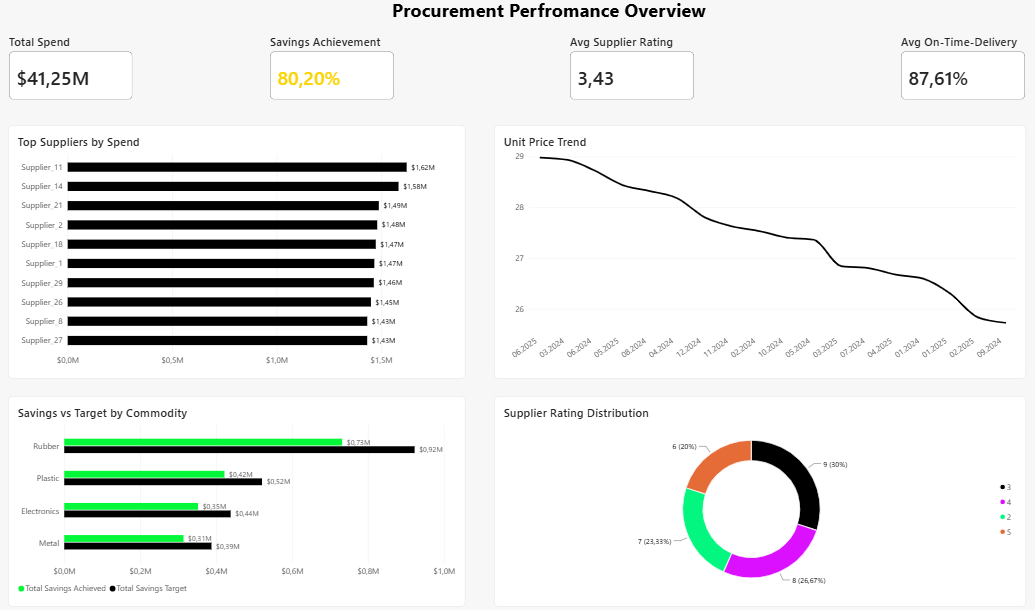

This screenshot's page, from the dashboard's own definition file:
{"tool":"powerbi","page":{"name":"1. Procurement Performance Overview","canvas":[1920,1080],"ordinal":0},"visuals":[{"type":"textbox","box":[10.5,0,1909.5,62.9],"z":0},{"type":"cardVisual","title":"Total Spend","fields":{"Data":["Fact_ProcurementPerfromance.Total Spend"]},"box":[23.9,62.9,215.5,116.7],"z":1000},{"type":"cardVisual","title":"Savings Achievement","fields":{"Data":["Fact_ProcurementPerfromance.Savings Achievement %"]},"box":[478.9,62.9,217,116.7],"z":2000},{"type":"cardVisual","title":"Avg Supplier Rating","fields":{"Data":["Dim_Supplier.Avg Supplier Rating"]},"box":[1002.7,62.9,217,116.7],"z":3000},{"type":"cardVisual","title":"Avg On-Time-Delivery","fields":{"Data":["Fact_ProcurementPerfromance.Avg On Time Delivery"]},"box":[1578.8,62.9,217,116.7],"z":4000},{"type":"barChart","title":"Top Suppliers by Spend","fields":{"Y":["Sum(Fact_ProcurementPerfromance.Total_Spend)"],"Category":["Dim_Supplier.Supplier_Name"]},"box":[23.3,223.3,796.7,441.7],"z":5000},{"type":"lineChart","title":"Unit Price Trend","fields":{"Y":["Fact_ProcurementPerfromance.Avg Unit Price"],"Category":["Dim_Date.Year Month"]},"box":[870,223.3,926.7,441.7],"z":6000},{"type":"clusteredBarChart","title":"Savings vs Target by Commodity","fields":{"Category":["Dim_Component.Commodity"],"Y":["Fact_ProcurementPerfromance.Total Savings Achieved","Fact_ProcurementPerfromance.Total Savings Target"]},"box":[23.3,695,796.7,366.7],"z":7000},{"type":"donutChart","title":"Supplier Rating Distribution","fields":{"Category":["Dim_Supplier.Supplier_Rating"],"Y":["CountNonNull(Dim_Supplier.Supplier_ID)"]},"box":[870,695,927,367],"z":8000}]}

Visuals, with their boxes on the page's 1920x1080 design canvas (x1, y1, x2, y2). These are canvas units, not pixel positions in the 1035x610 screenshot, which may show the page scaled, cropped or inside an application window:
textbox: box(10, 0, 1920, 63)
"Total Spend" cardVisual: box(24, 63, 239, 180)
"Savings Achievement" cardVisual: box(479, 63, 696, 180)
"Avg Supplier Rating" cardVisual: box(1003, 63, 1220, 180)
"Avg On-Time-Delivery" cardVisual: box(1579, 63, 1796, 180)
"Top Suppliers by Spend" barChart: box(23, 223, 820, 665)
"Unit Price Trend" lineChart: box(870, 223, 1797, 665)
"Savings vs Target by Commodity" clusteredBarChart: box(23, 695, 820, 1062)
"Supplier Rating Distribution" donutChart: box(870, 695, 1797, 1062)
